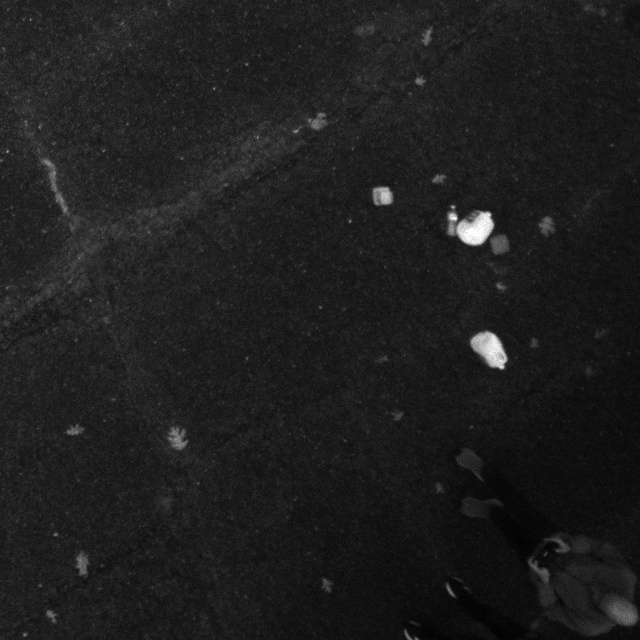bottle: (443, 199, 463, 241)
can: (467, 327, 513, 374), (455, 204, 498, 249)
container: (369, 181, 399, 209), (486, 231, 515, 258)
